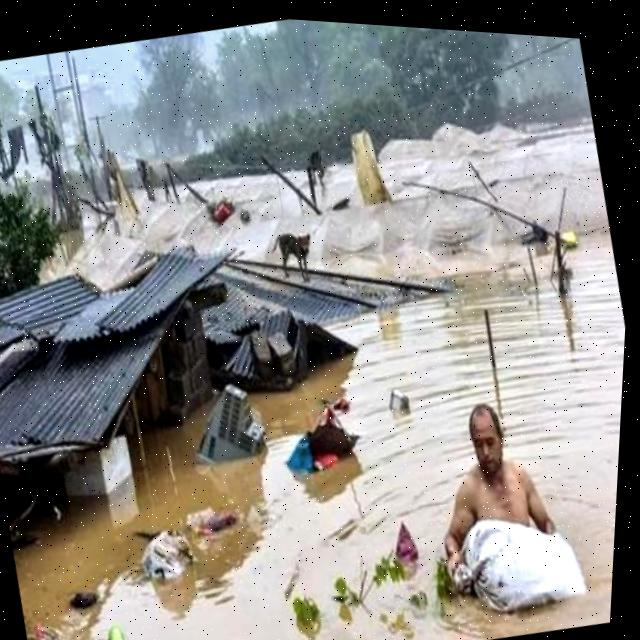civilian: (387, 373, 583, 607)
dog: (258, 207, 331, 301)
